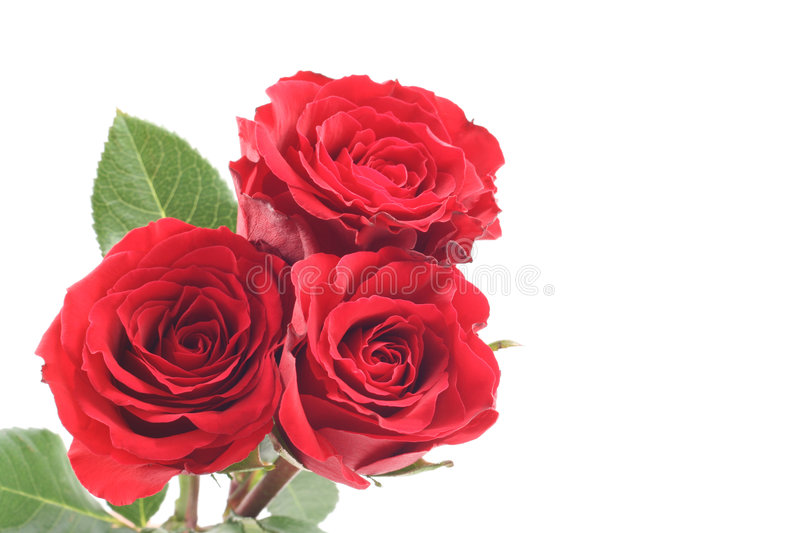RedRose: (32, 224, 303, 518), (226, 46, 520, 256), (278, 244, 511, 498)
